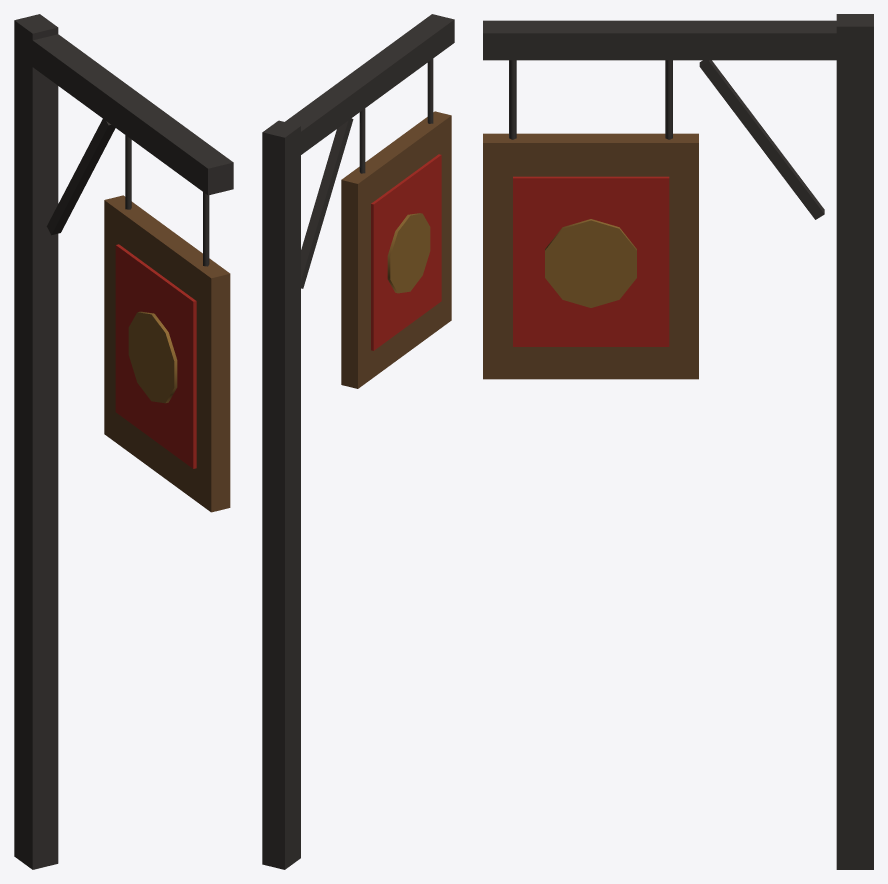
Rendered from mv_shop_sign.glb.
3 views of the same model, side by side, from view 1: azimuth 30°, elevation 25°; view 2: azimuth 150°, elevation 25°; view 3: azimuth 270°, elevation 25° (orthographic). The views are drawn at different scales.
Visible parts, largest first — view 1: mv_shop_sign; view 2: mv_shop_sign; view 3: mv_shop_sign.
Part boxes in pixels (x1,y1,x2,y2): mv_shop_sign: (14,14,233,869); mv_shop_sign: (262,14,454,869); mv_shop_sign: (483,14,873,869).
Bounding box in the file's own units: 0.1 × 2.5 × 1.05.
